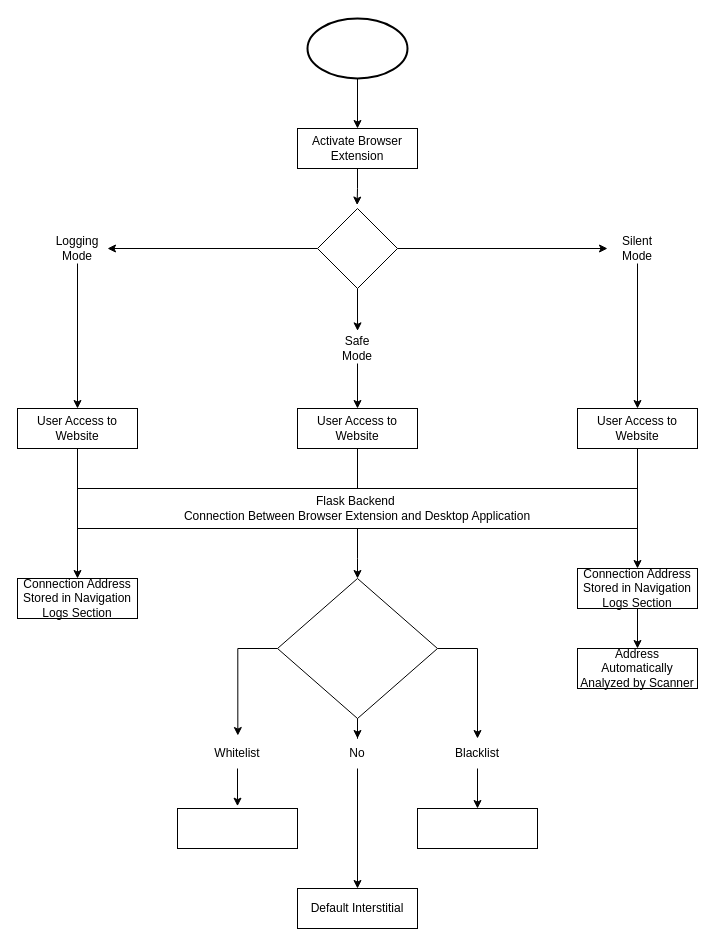
Image size: 715x946. Some labels were removed from this diagram. The shapes that lost their labels are listed below. From the top down, each one's centre as x and y in pixels, then its label:
At point (357, 48): "Start".
At point (357, 248): "Mode Selected?".
At point (357, 648): "Address Present in Any List?".
At point (237, 828): "Direct Access".
At point (477, 828): "Blacklist Interstitial".
